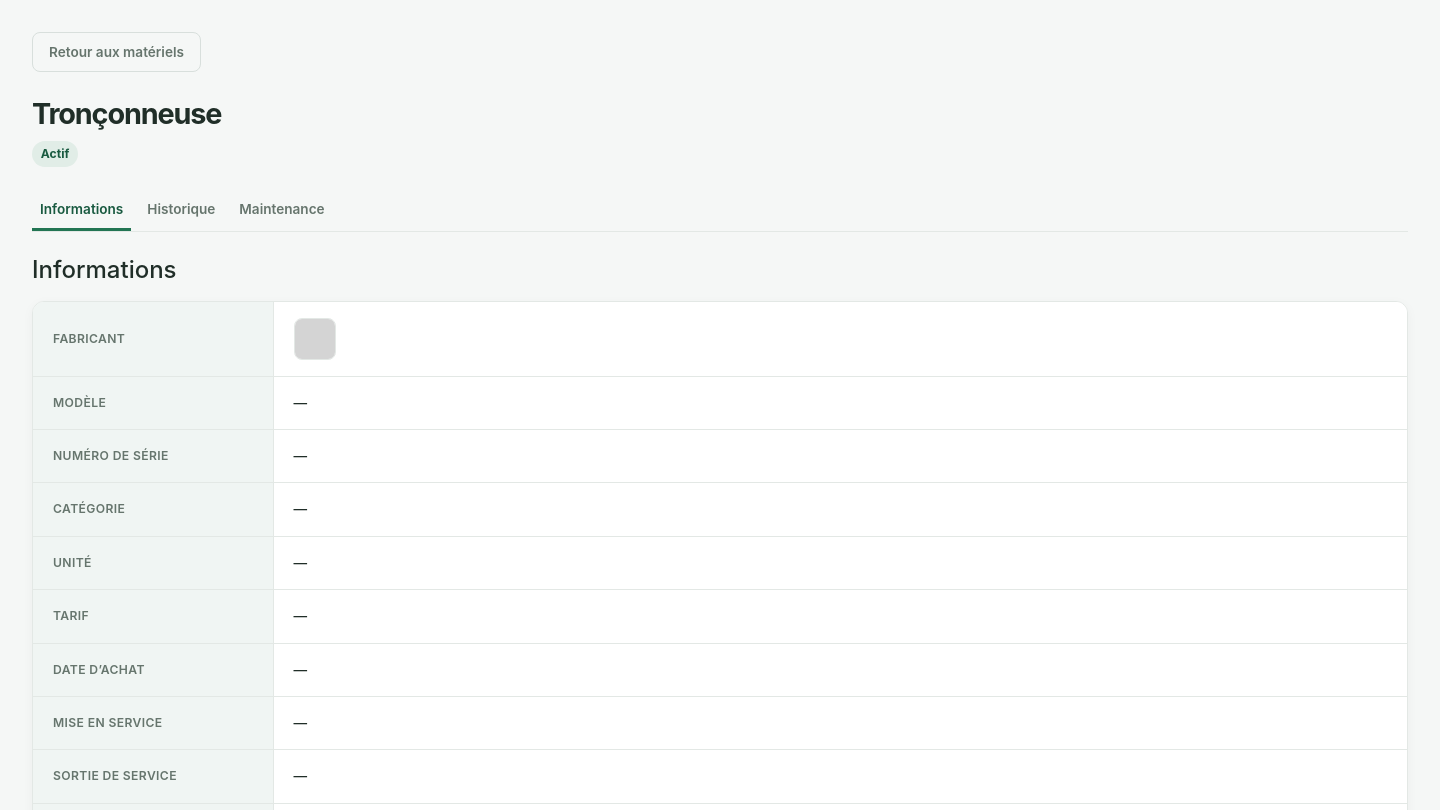
MaterialDetailPage › allows consumption with catalogue access without requiring maintenance-plan read access
This screenshot has width=1440, height=810.
Click the tab "Maintenance".
click(282, 211)  # box [231,191,333,231]
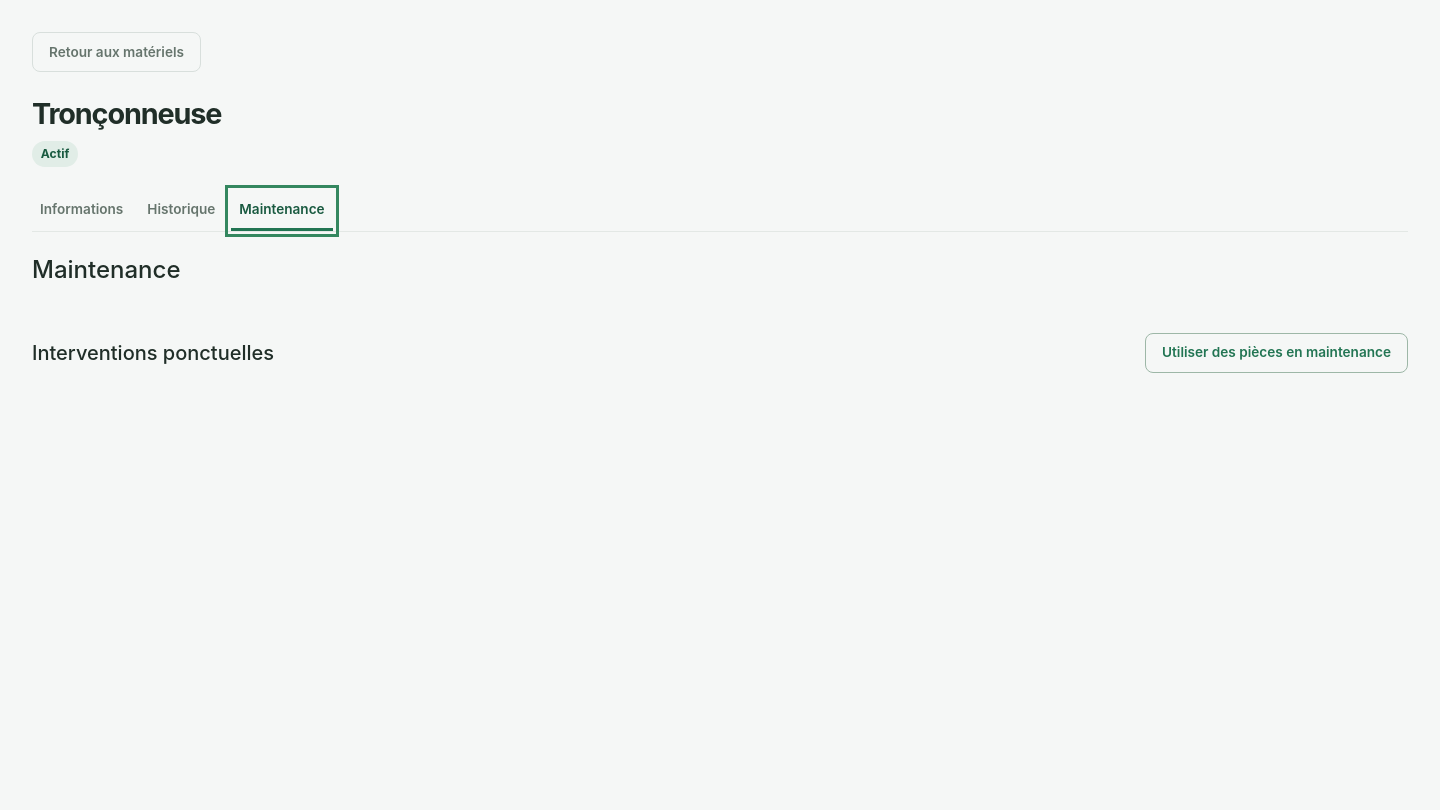
expect the button "Utiliser des pièces en maintenance" is enabled: met, box [1145,333,1408,373]
